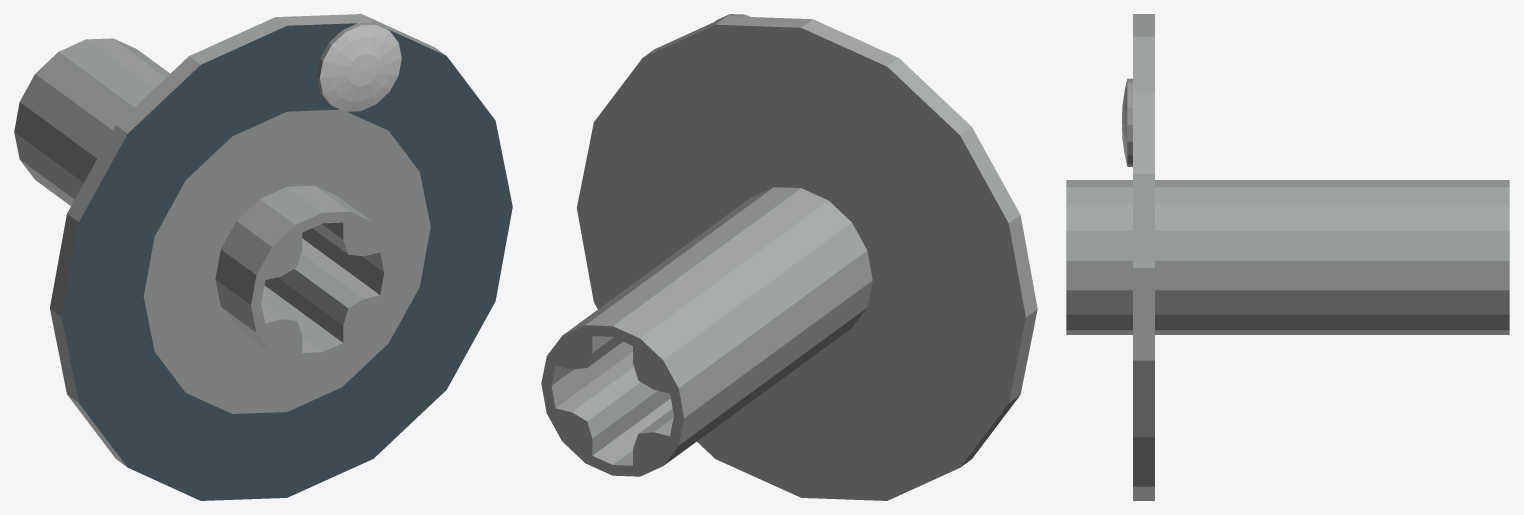
3 renders of one model, left to right at view 1: azimuth 30°, elevation 25°; view 2: azimuth 150°, elevation 25°; view 3: azimuth 270°, elevation 25°, orthographic. The views are drawn at different scales.
Visible parts, largest first — view 1: world; view 2: world; view 3: world.
Boxes of the visible parts, x1,y1,x2,y2 form: world: [14, 14, 512, 500]; world: [541, 14, 1037, 500]; world: [1066, 14, 1509, 500].
Size of the model in its own units: 0.0176 by 0.0176 by 0.016.
